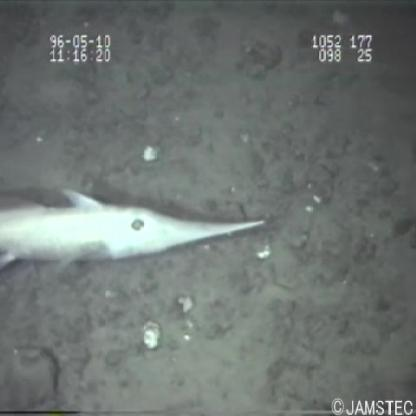Bio: (1, 183, 269, 278)
